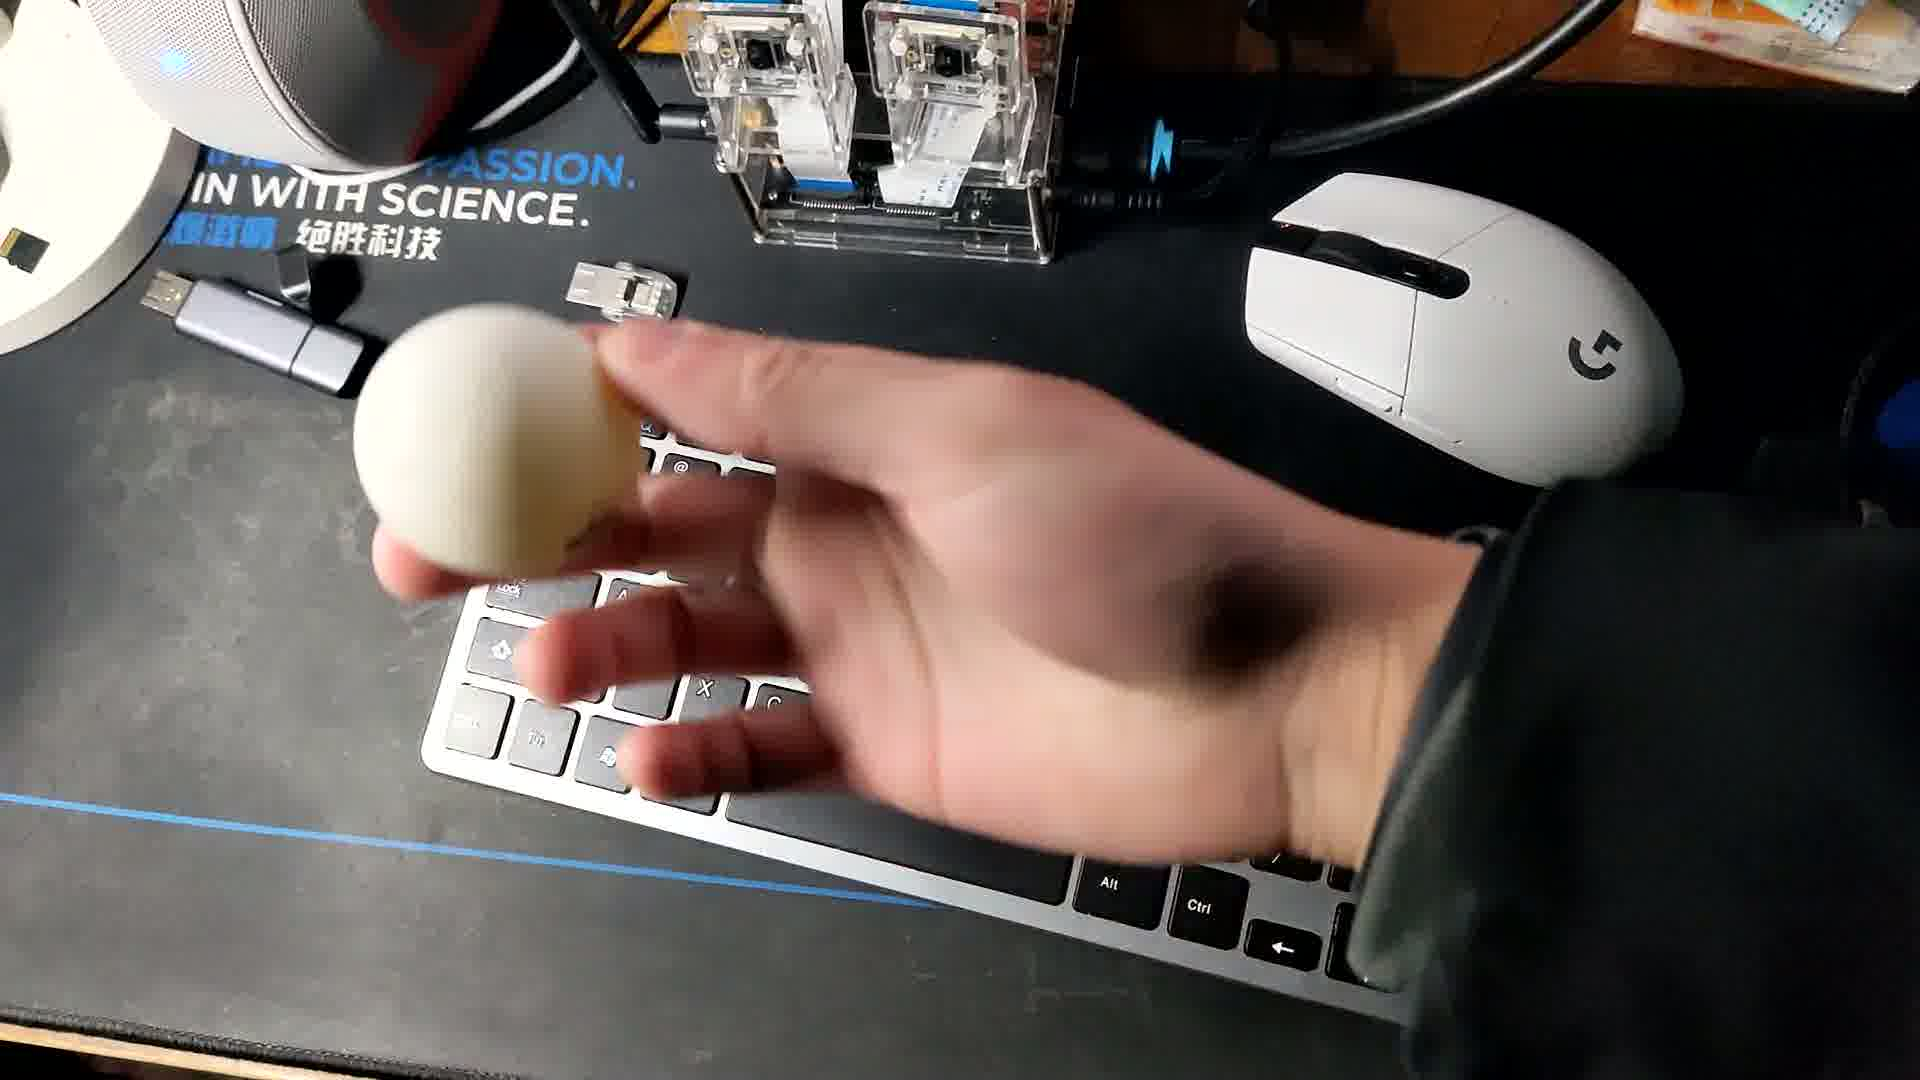Ball: (352, 295, 646, 583)
